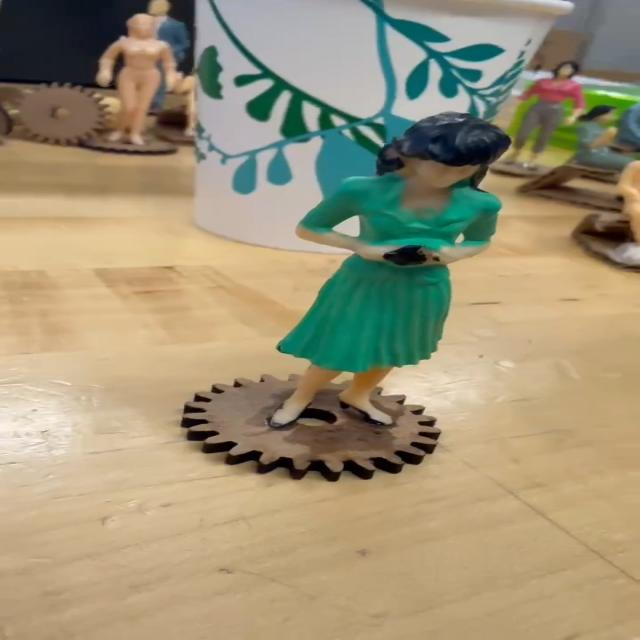Authorized: (287, 105, 457, 486)
